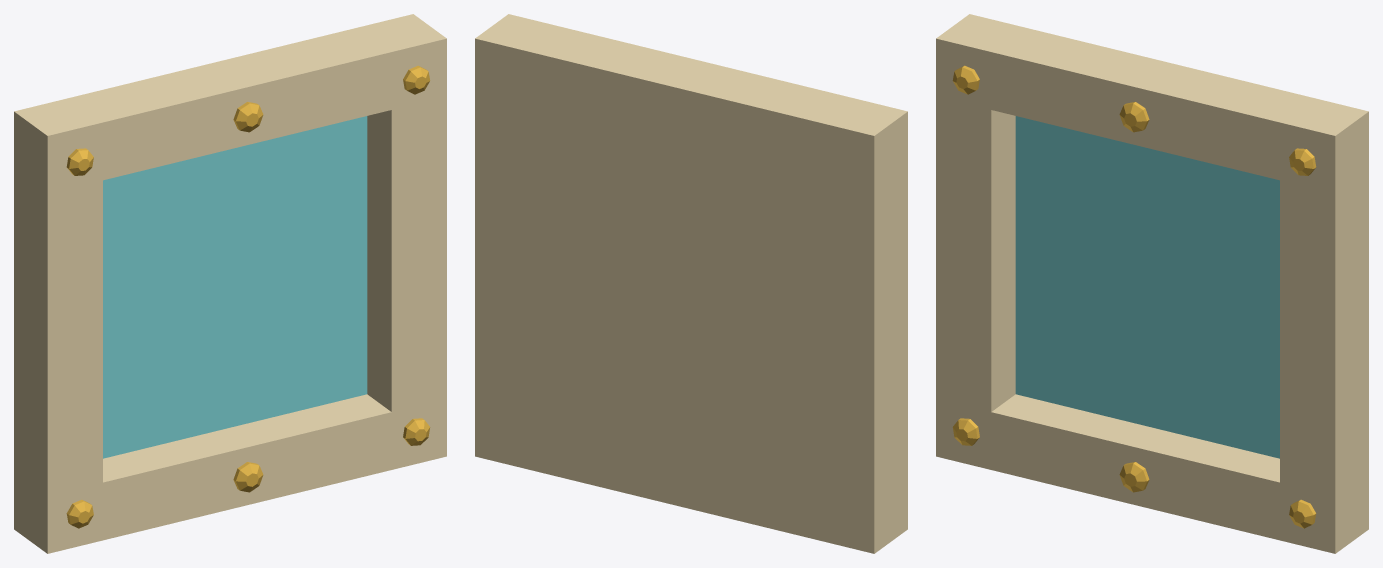
Rendered from ayna.fbx.
3 views of the same model, side by side, from view 1: azimuth 30°, elevation 25°; view 2: azimuth 150°, elevation 25°; view 3: azimuth 330°, elevation 25° (orthographic).
Visible parts, largest first — view 1: Cube.002; view 2: Cube.002; view 3: Cube.002.
Part boxes in pixels (x1,y1,x2,y2): Cube.002: [14, 14, 446, 553]; Cube.002: [475, 14, 907, 553]; Cube.002: [936, 14, 1368, 553].
Bounding box in the file's own units: 200 × 200 × 33.63.
